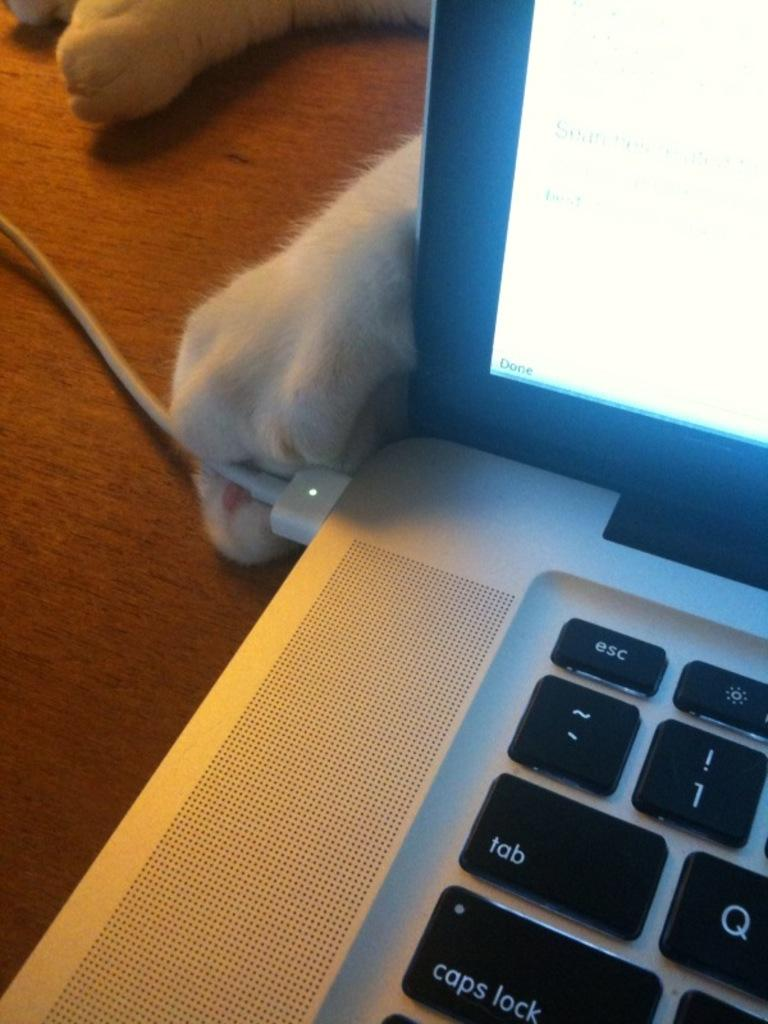Laptop: (69, 119, 756, 1010)
